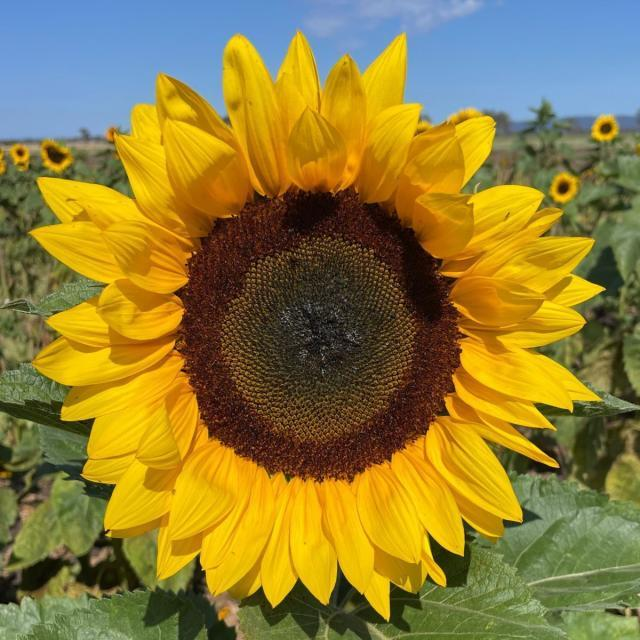sunflower: (28, 28, 606, 622), (40, 138, 73, 173), (548, 171, 578, 204), (590, 113, 619, 142), (9, 142, 29, 166), (104, 125, 118, 143), (0, 148, 6, 174)
